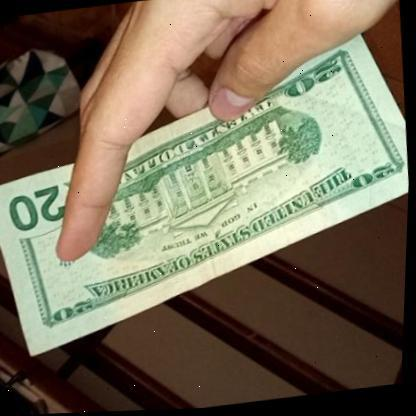twenty-back: (0, 39, 415, 353)
